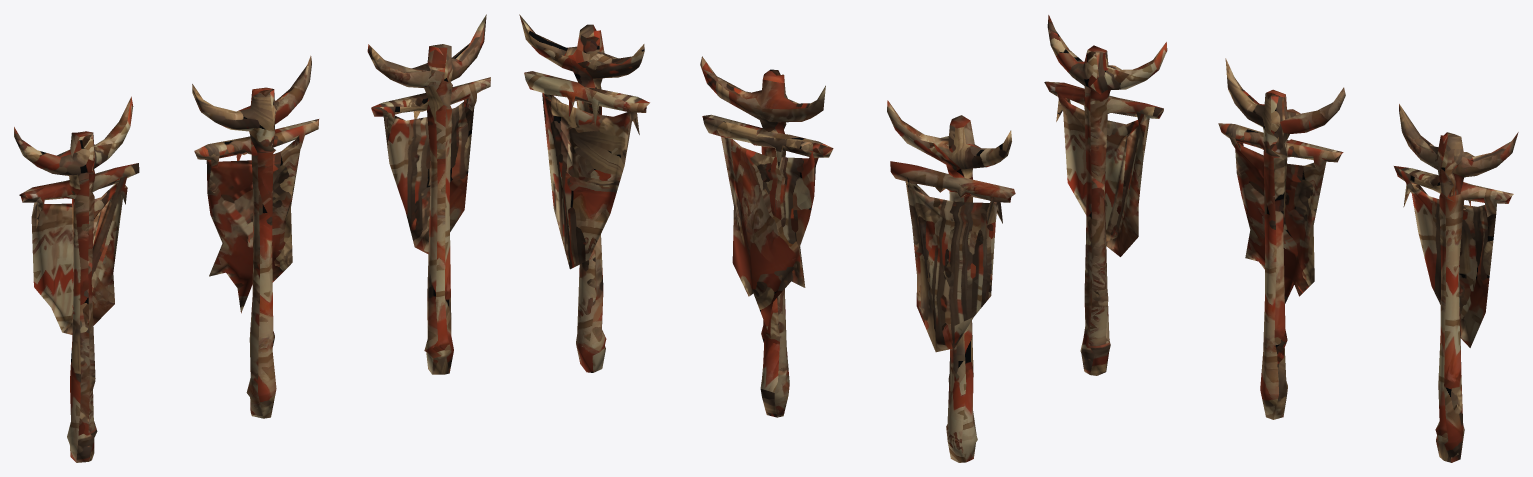
File: OrcishFlag.fbx
The picture shows the model from 3 angles, left to right: view 1: azimuth 30°, elevation 25°; view 2: azimuth 150°, elevation 25°; view 3: azimuth 330°, elevation 25°; orthographic projection. The views are drawn at different scales.
Parts seen in each view (by area): view 1: mesh_node; view 2: mesh_node; view 3: mesh_node.
Boxes of the visible parts, left/top/right/bottom form: mesh_node: left=14, top=14, right=490, bottom=462; mesh_node: left=519, top=14, right=1015, bottom=462; mesh_node: left=1044, top=15, right=1518, bottom=462.
Size of the model in its own units: 1.97 by 1.35 by 0.158.
